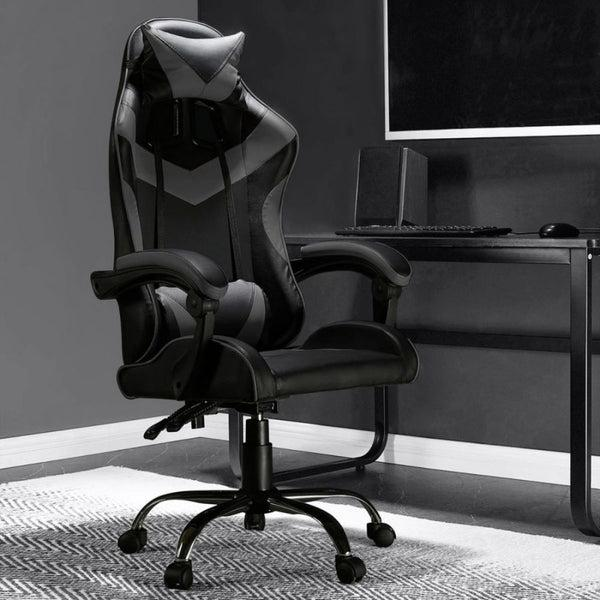chair: (91, 2, 415, 591)
